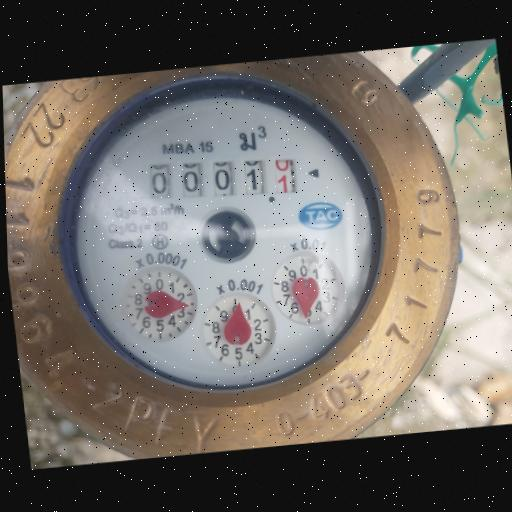0: (211, 160, 237, 197), (180, 161, 205, 198), (147, 163, 172, 199)
1: (273, 158, 299, 195), (243, 159, 269, 195)
border_water_meter_number: (140, 146, 306, 211)
